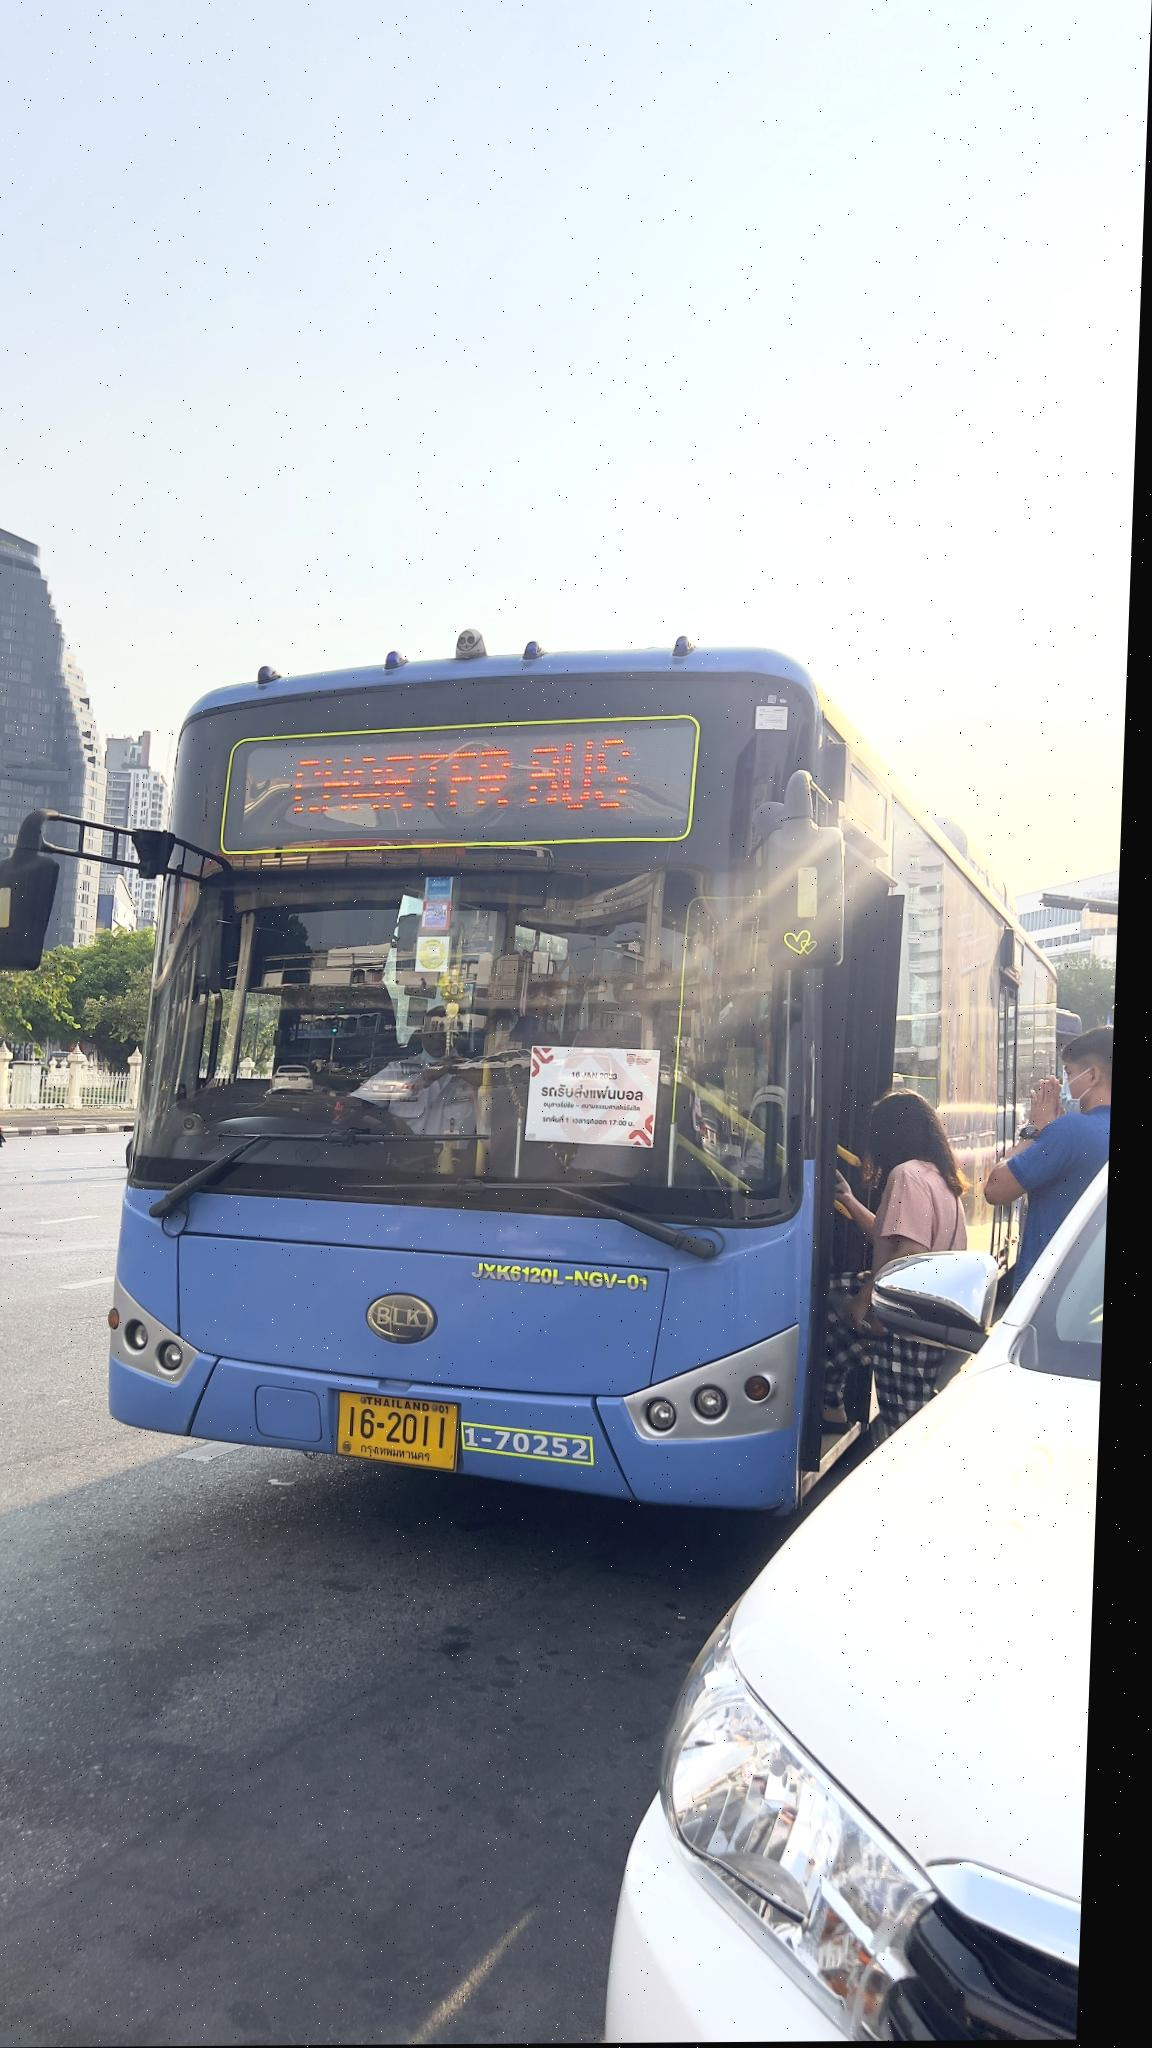BMTA-bus: (117, 647, 1024, 1523)
Bus Side Number: (471, 1423, 608, 1474)
